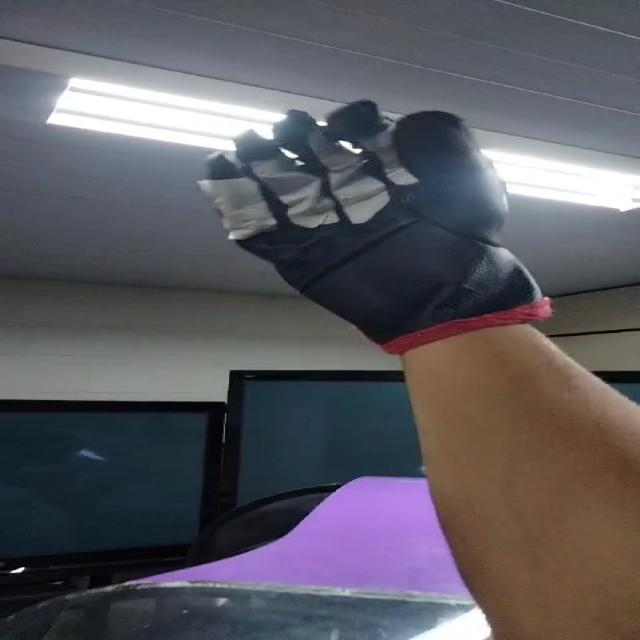Gloves: (204, 102, 559, 354)
